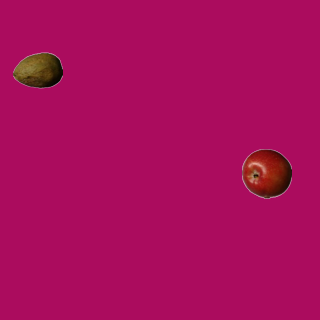Apple Braeburn: (241, 148, 291, 198)
Papaya: (12, 45, 62, 95)
